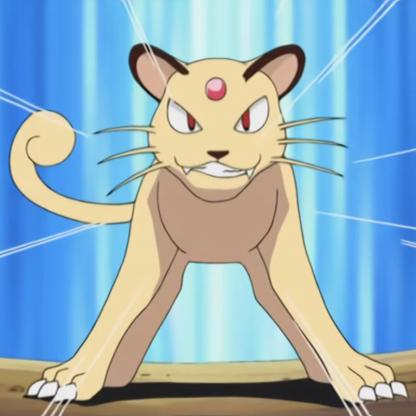Persian: (6, 31, 408, 412)
